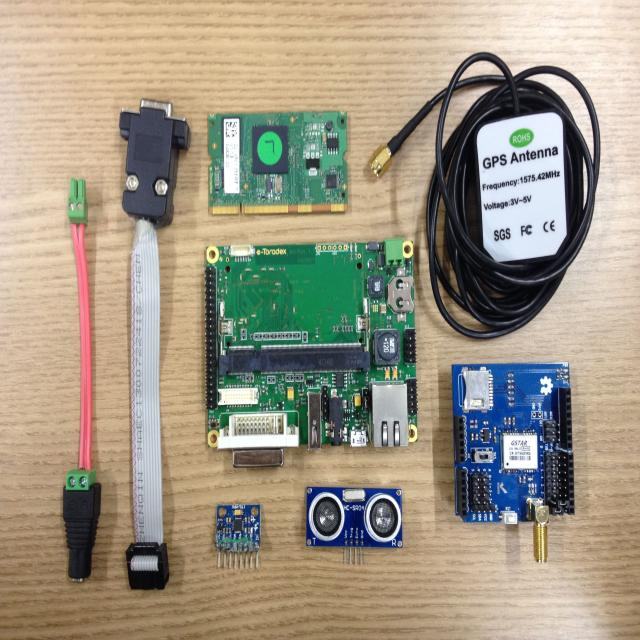som: (207, 111, 350, 208)
